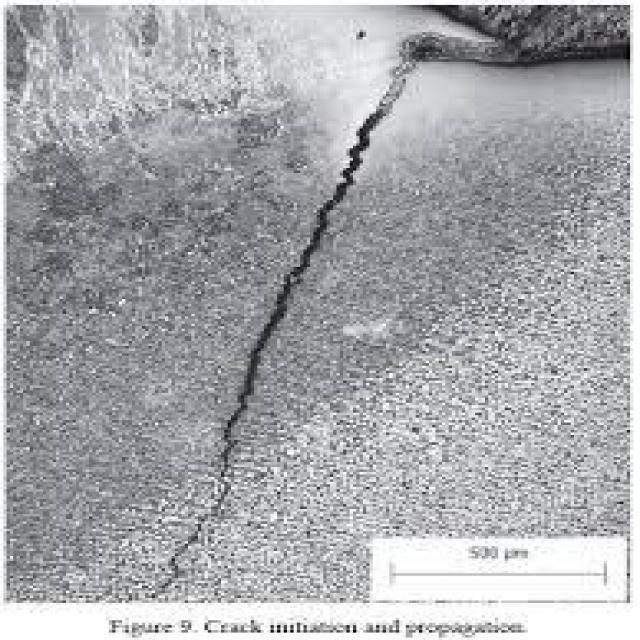defect: (145, 42, 434, 595)
